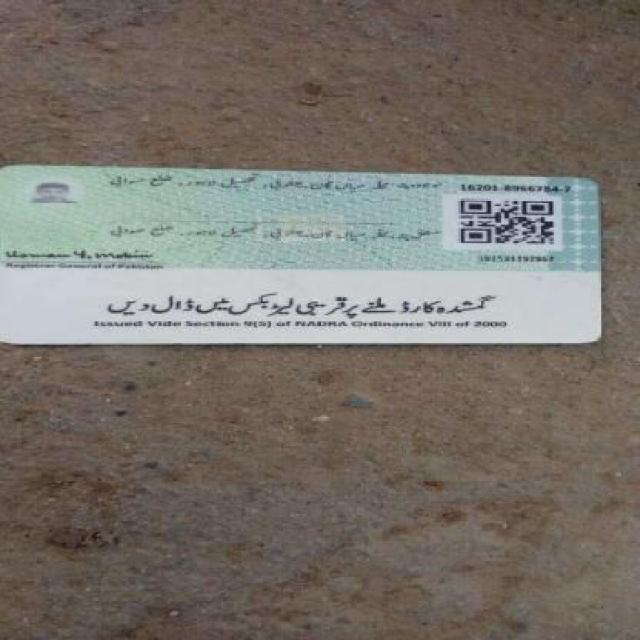Back: (4, 160, 610, 351)
